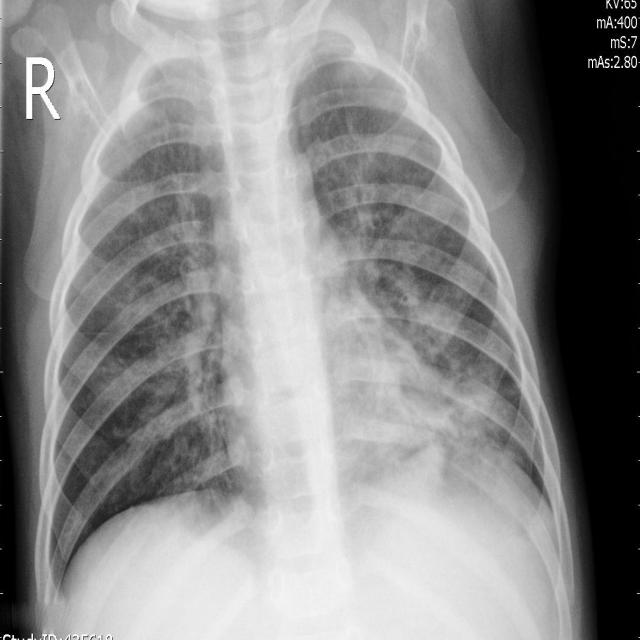high-pneumonia: (104, 33, 214, 174)
low-pneumonia: (146, 205, 228, 477), (393, 243, 474, 367), (312, 31, 394, 137)
